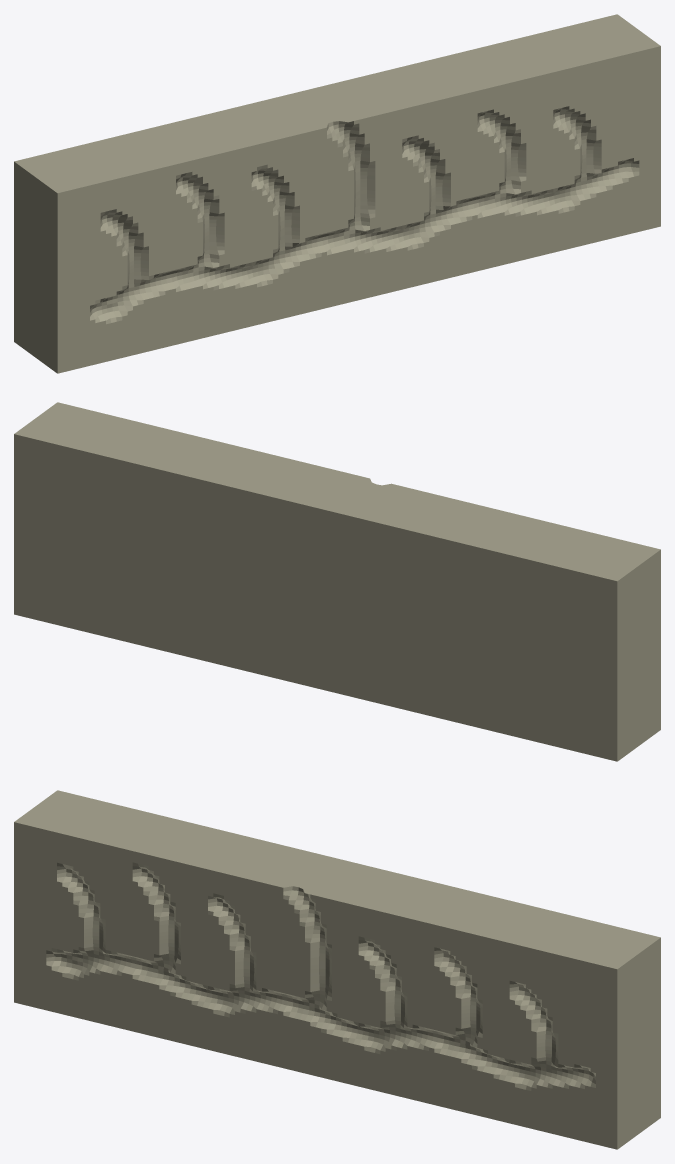
The model's file is treptichnus-serial-probe-burrow.glb.
The picture shows the model from 3 angles, top to bottom: view 1: azimuth 30°, elevation 25°; view 2: azimuth 150°, elevation 25°; view 3: azimuth 330°, elevation 25°; orthographic projection.
Visible parts, largest first — view 1: continuous-sediment-longitudinal-cutaway-with-serial-J-half-; view 2: continuous-sediment-longitudinal-cutaway-with-serial-J-half-; view 3: continuous-sediment-longitudinal-cutaway-with-serial-J-half-.
Part boxes in pixels (box(x1,y1,x2,y2)): continuous-sediment-longitudinal-cutaway-with-serial-J-half-: box(14, 14, 660, 373); continuous-sediment-longitudinal-cutaway-with-serial-J-half-: box(14, 402, 660, 761); continuous-sediment-longitudinal-cutaway-with-serial-J-half-: box(14, 790, 660, 1149).
Size of the model in its own units: 0.28 by 0.08 by 0.035.
